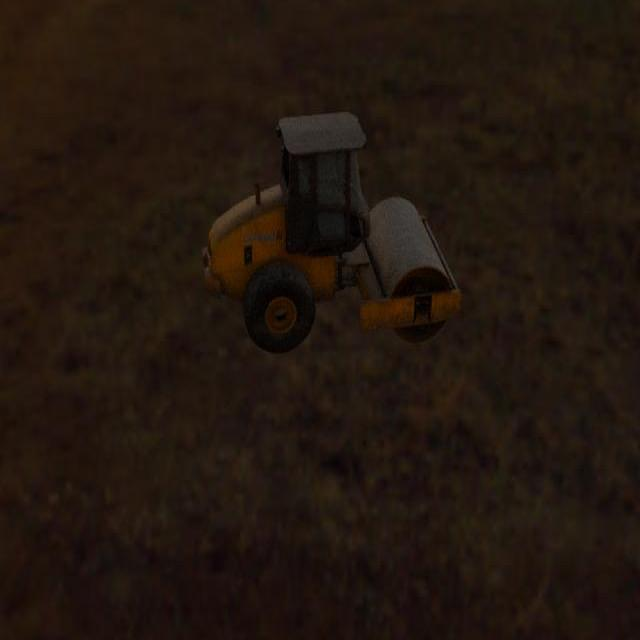Roller: (201, 111, 462, 353)
